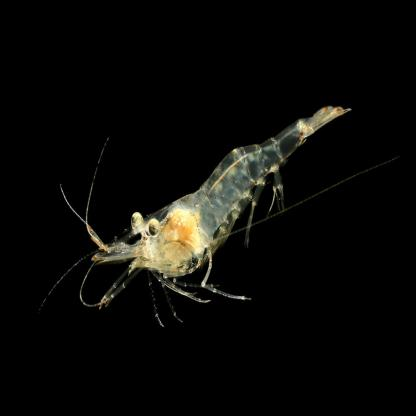shrimp: (36, 106, 351, 328)
